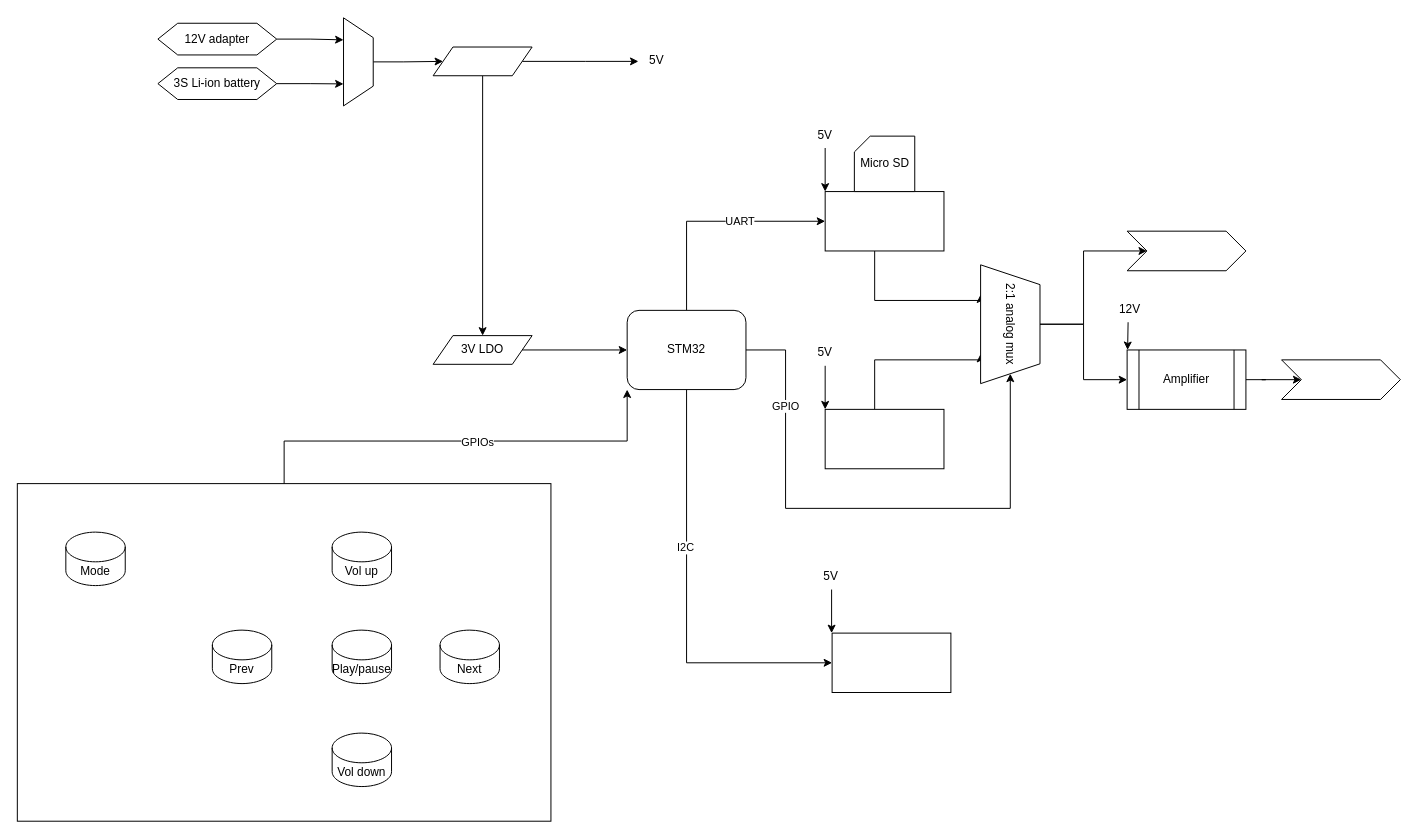
Some shapes in this 1418 by 839 pixel diagram are drawn without their labels. The box of each missing label's shape, as (x1, y1, x2, y2) in pixels:
3.5mm jack: (1126, 230, 1246, 271)
5V regulator: (432, 46, 532, 76)
Bluetooth receiver module: (824, 408, 944, 469)
MP3 player module: (824, 191, 944, 251)
OLED display: (831, 632, 951, 693)
power selection: (343, 17, 373, 106)
Speaker: (1281, 359, 1400, 399)
